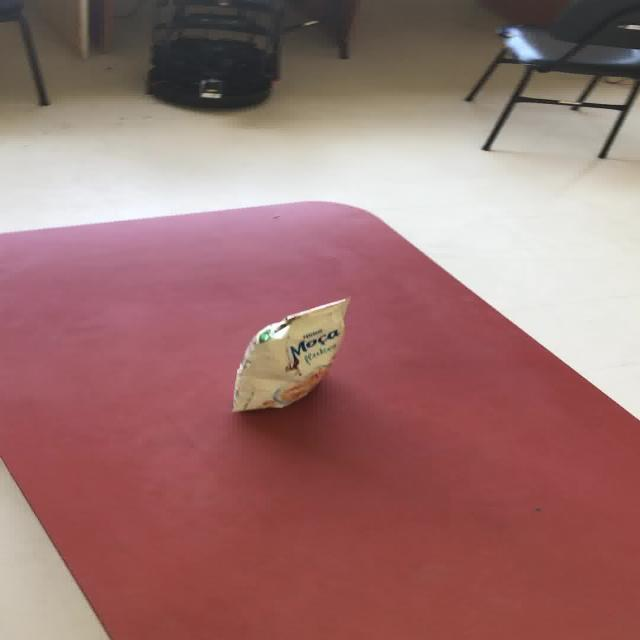corn flakes: (230, 296, 350, 413)
